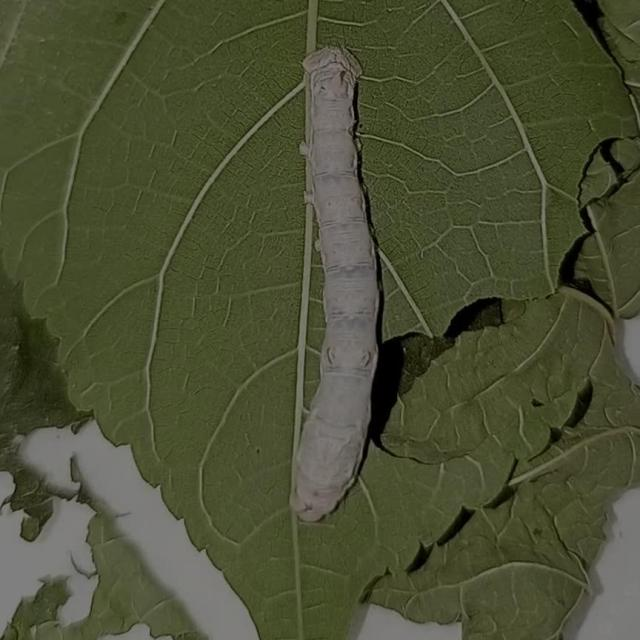Healthy: (267, 33, 397, 536)
